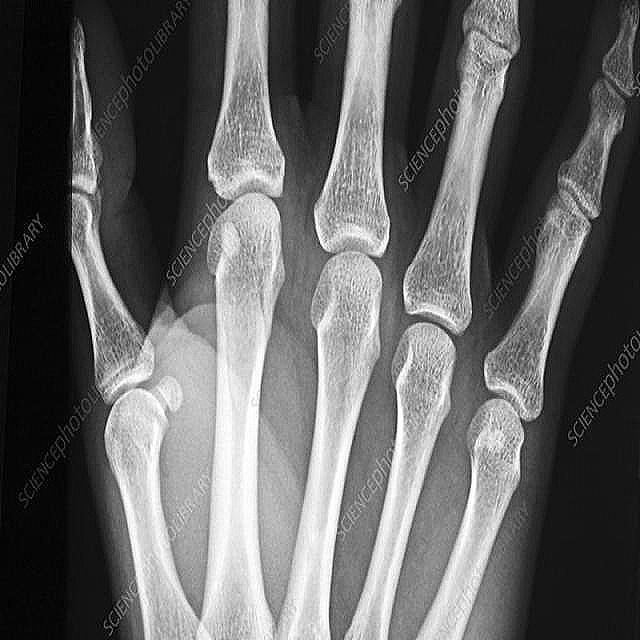bone: (232, 270, 281, 371)
